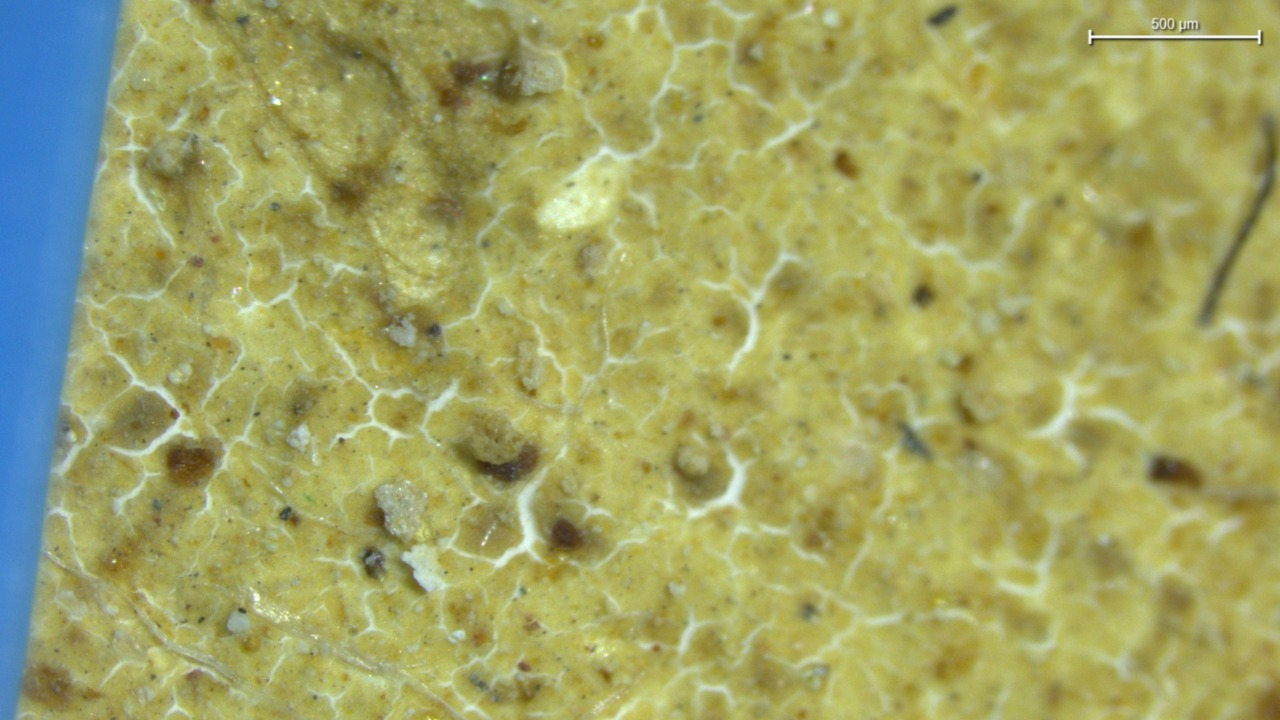microplastic_fragment: (456, 413, 526, 465), (375, 480, 427, 543), (401, 544, 446, 593)
